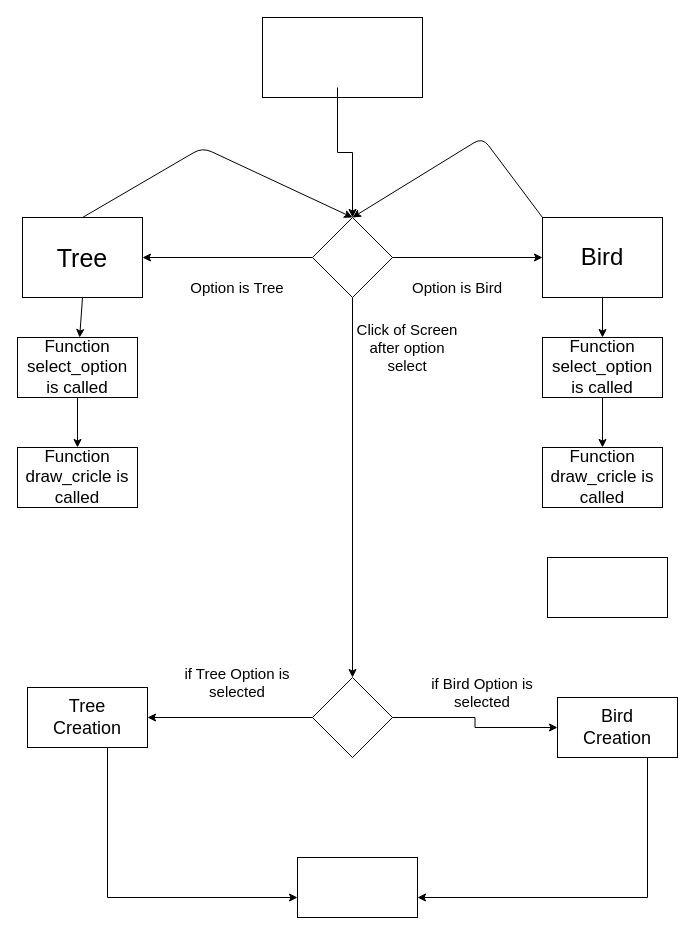
The diagram is 695 pixels wide and 935 high, and some of its shapes have lost their labels. The shapes that lost their labels are listed below. From the top down, each one's box as (x1, y1, x2, y2) in pixels, then its label:
(262, 16, 422, 98): Option select between Bird and Tree
(546, 556, 668, 618): Function create_bird() is called
(296, 856, 418, 918): STOP
